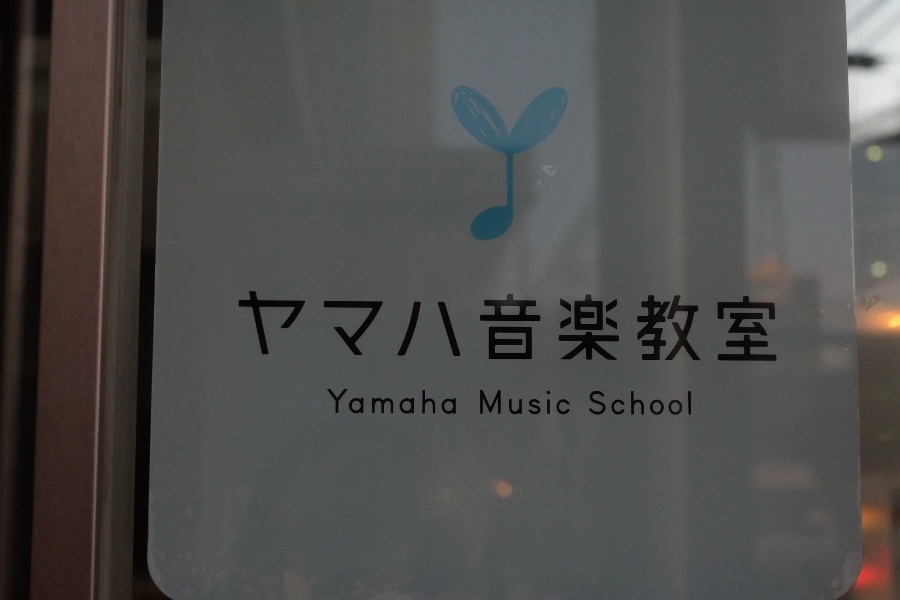text: (241, 286, 256, 365), (257, 286, 272, 365), (273, 286, 288, 365), (289, 286, 304, 365), (305, 286, 320, 365), (321, 286, 336, 365), (337, 286, 352, 365), (353, 286, 368, 365), (369, 286, 384, 365), (385, 286, 400, 365), (401, 286, 416, 365), (417, 286, 432, 365), (433, 286, 448, 365), (449, 286, 464, 365), (465, 286, 480, 365), (481, 286, 496, 365), (497, 286, 512, 365), (513, 286, 528, 365), (529, 286, 544, 365), (545, 286, 560, 365), (561, 286, 576, 365), (577, 286, 592, 365), (593, 286, 608, 365), (609, 286, 624, 365), (625, 286, 640, 365), (641, 286, 656, 365), (657, 286, 672, 365), (673, 286, 688, 365), (689, 286, 704, 365), (705, 286, 720, 365), (721, 286, 736, 365), (737, 286, 752, 365), (753, 286, 768, 365), (769, 286, 779, 365), (593, 387, 608, 419), (609, 387, 624, 419), (625, 387, 640, 419), (641, 387, 656, 419), (657, 387, 672, 419), (673, 387, 688, 419), (337, 388, 352, 417), (353, 388, 368, 417), (369, 388, 384, 417), (385, 388, 400, 417), (401, 388, 416, 417), (417, 388, 432, 417), (433, 388, 448, 417), (235, 286, 240, 365), (481, 390, 496, 416), (497, 390, 512, 416), (513, 390, 528, 416), (529, 390, 544, 416), (545, 390, 560, 416), (326, 388, 336, 417), (449, 388, 459, 417), (561, 390, 570, 416), (689, 387, 695, 419), (588, 387, 592, 419), (479, 390, 480, 416)
